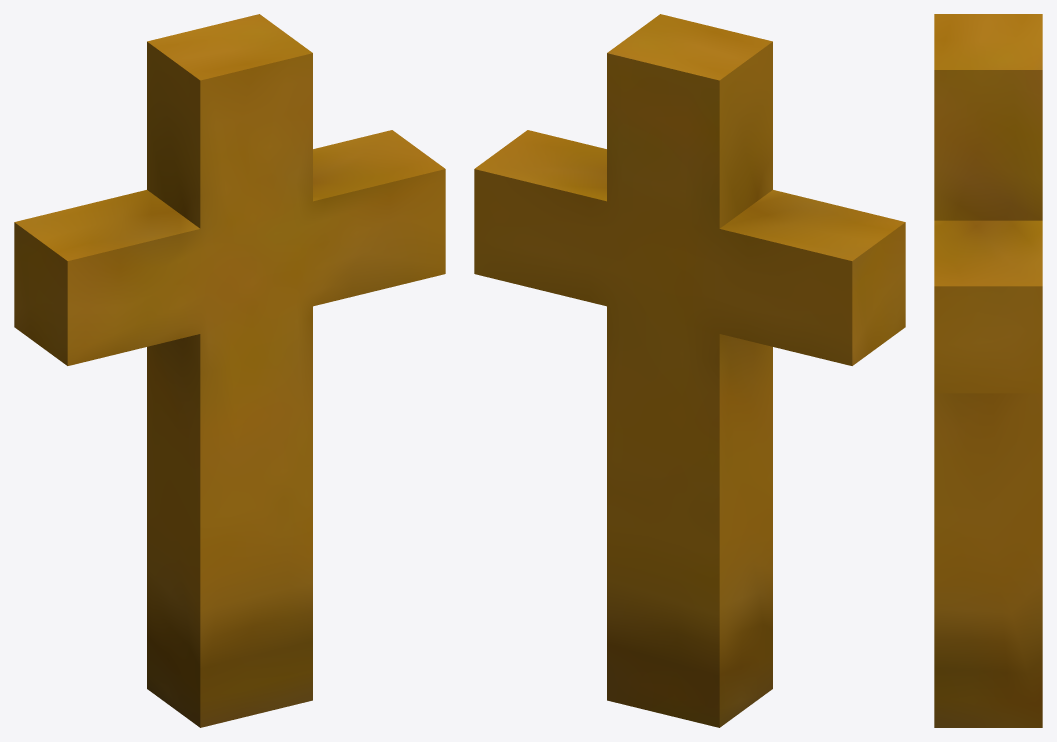
The model's file is cross.obj.
3 views of the same model, side by side, from view 1: azimuth 30°, elevation 25°; view 2: azimuth 150°, elevation 25°; view 3: azimuth 270°, elevation 25° (orthographic).
Visible parts, largest first — view 1: obj1.146; view 2: obj1.147, obj1.146; view 3: obj1.146.
Part boxes in pixels (bbox=[...]): obj1.146: bbox=[14, 14, 445, 727]; obj1.147: bbox=[474, 53, 852, 727]; obj1.146: bbox=[475, 14, 905, 727]; obj1.146: bbox=[934, 14, 1042, 727].
Size of the model in its own units: 0.4318 by 0.7067 by 0.1057.
1 material, 1 textured.
